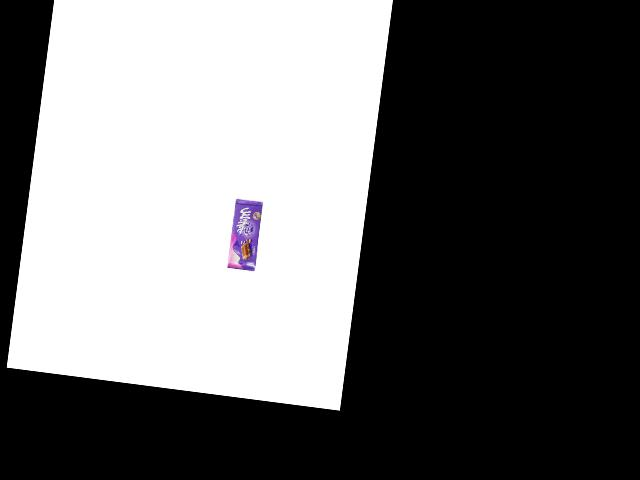chocolate: (226, 198, 264, 271)
